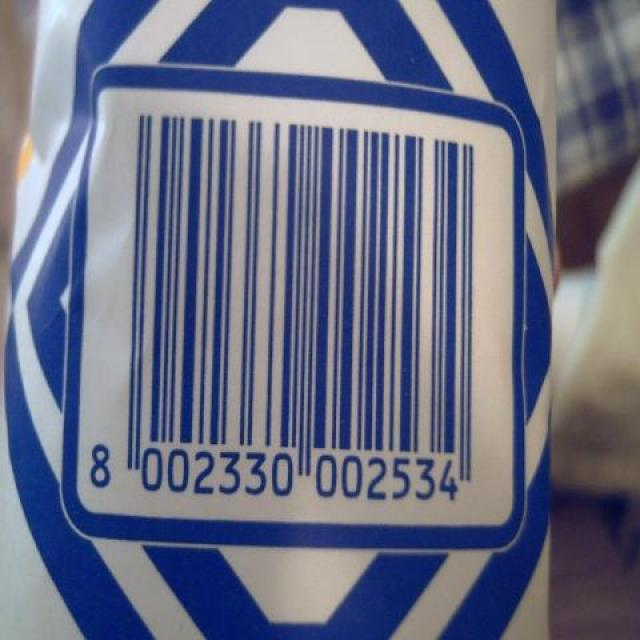Barcode: (60, 70, 525, 550)
